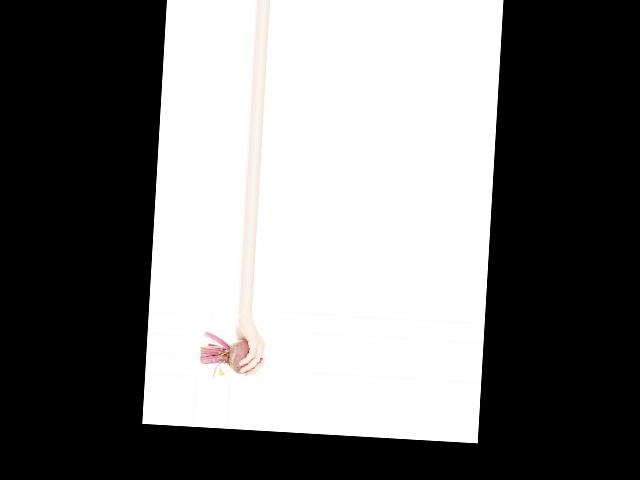beet: (198, 331, 264, 380)
